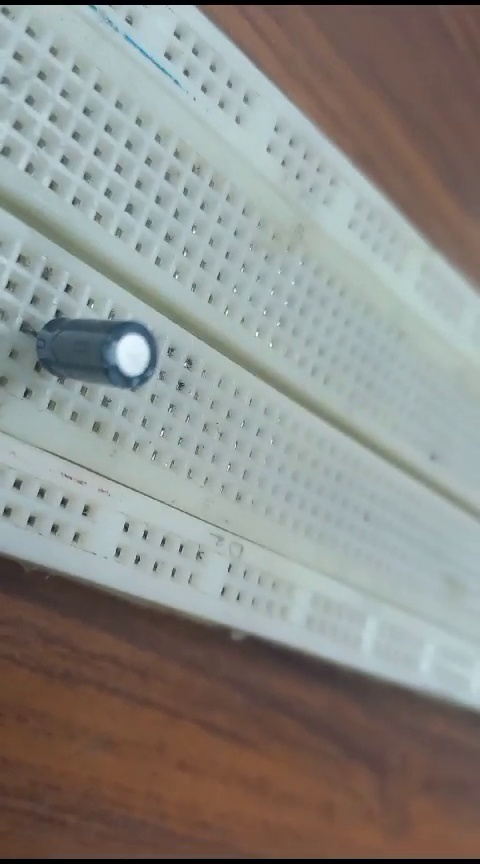capacitor: (20, 296, 164, 396)
